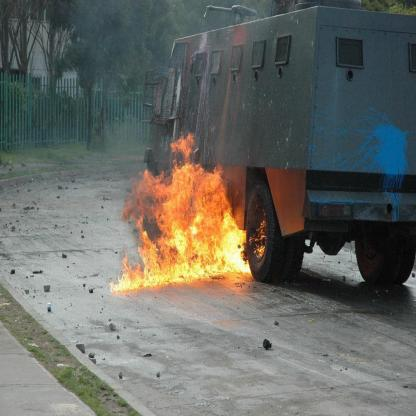fire: (110, 128, 254, 295)
